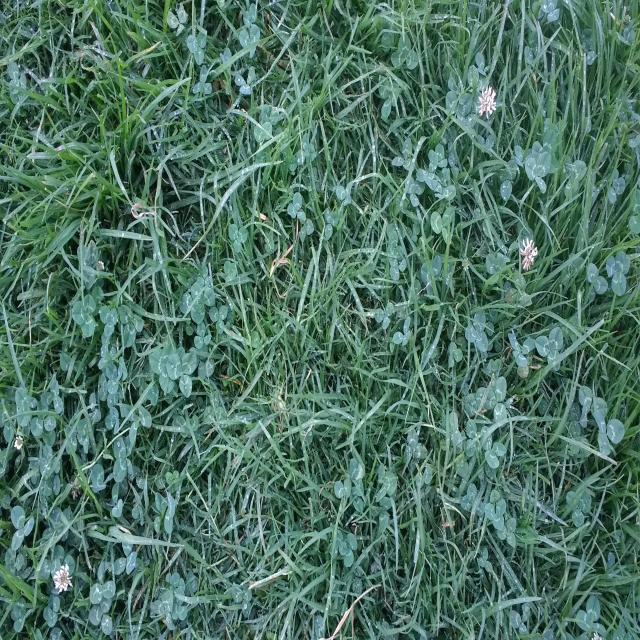Four Leaf Clover: (113, 435, 133, 482)
